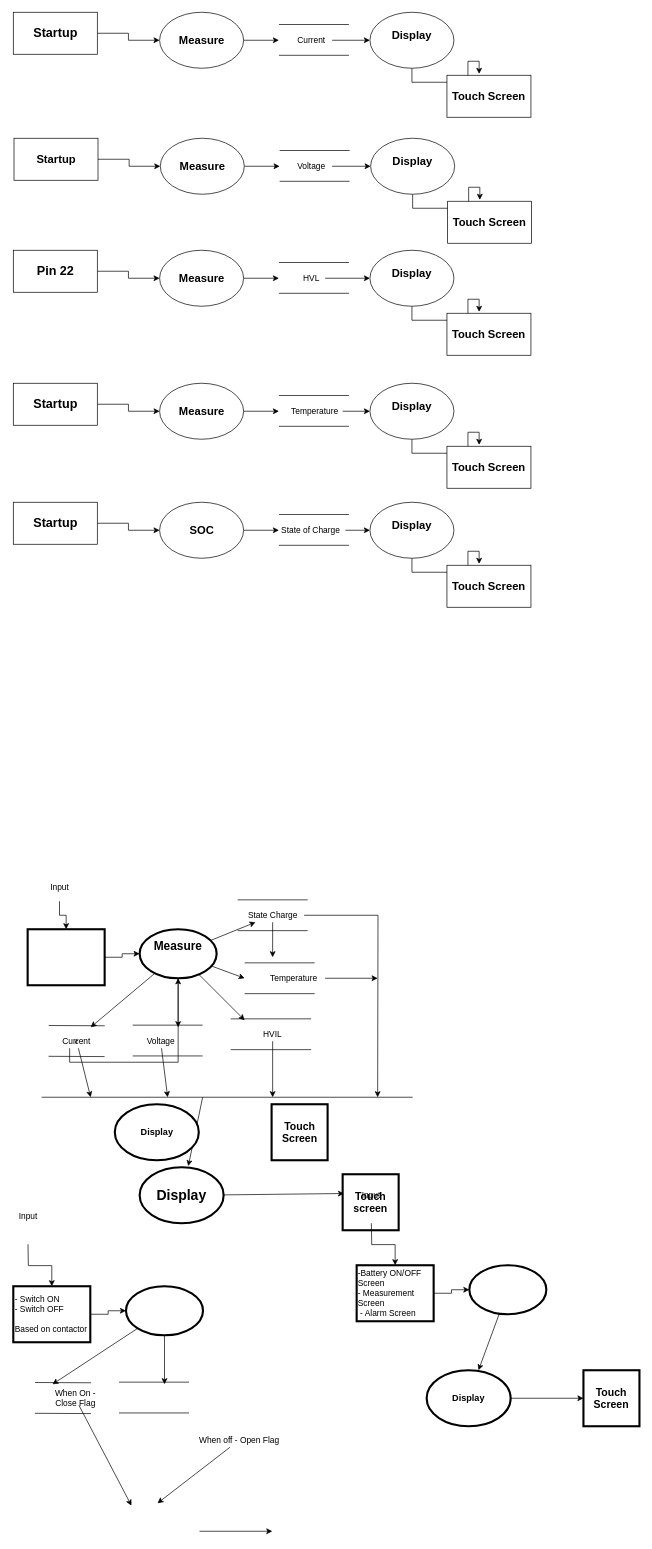
Image size: 652x1549. Some labels were removed from this diagram. Here are the shapes that lost their labels. From the top down, the box of each, then its label:
(26, 928, 105, 986): - Current - Voltage - HVIL - Temperature -State Charge
(468, 1264, 547, 1315): Touch input
(125, 1285, 204, 1336): Battery On/Off Screen
